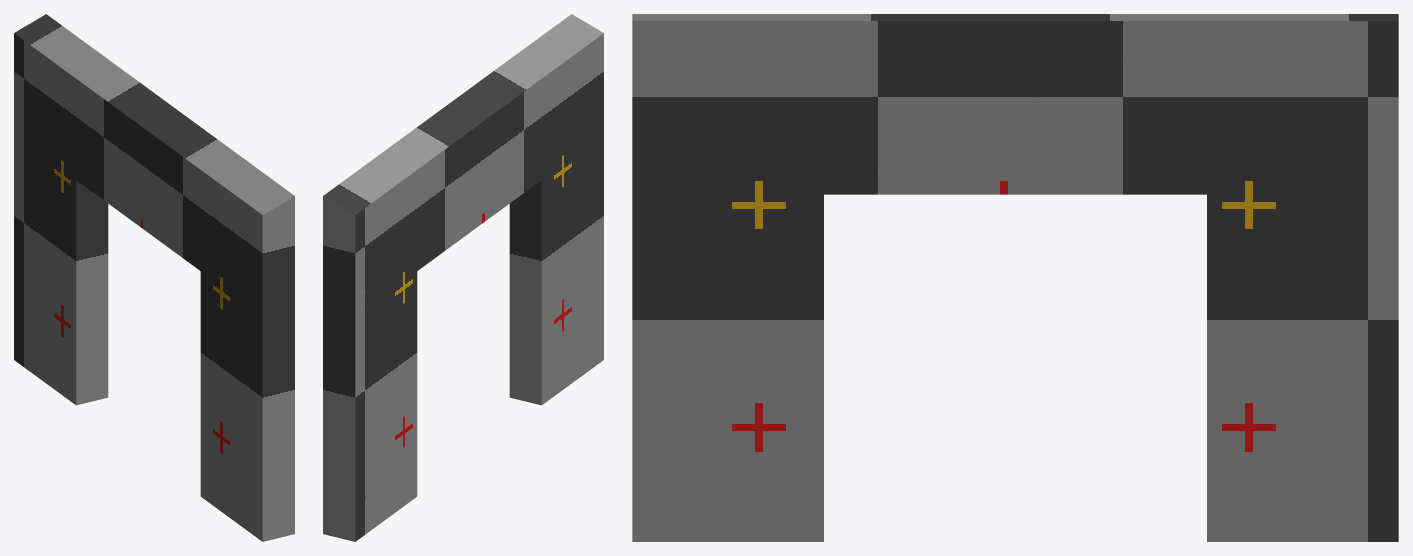
Rendered from door_big.fbx.
3 renders of one model, left to right at view 1: azimuth 30°, elevation 25°; view 2: azimuth 150°, elevation 25°; view 3: azimuth 270°, elevation 25°, orthographic. The views are drawn at different scales.
Parts seen in each view (by area): view 1: door_big; view 2: door_big; view 3: door_big.
Part boxes in pixels (x1,y1,x2,y2): door_big: (14, 14, 294, 541); door_big: (323, 14, 603, 541); door_big: (632, 14, 1398, 541).
Bounding box in the file's own units: 30 × 300 × 400.
